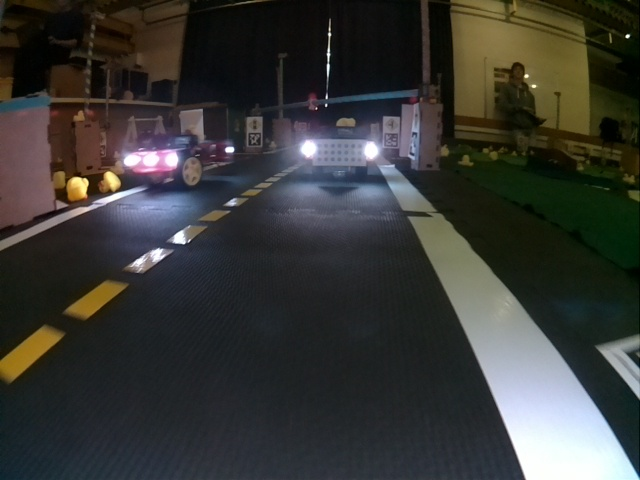Duckie: (68, 178, 88, 199), (99, 172, 118, 190), (458, 154, 469, 167), (73, 109, 82, 122)
Duckiebot: (124, 137, 232, 186), (301, 127, 377, 176)
Intersection sign: (386, 119, 396, 133)
QR code: (249, 132, 259, 147), (386, 135, 396, 147)
